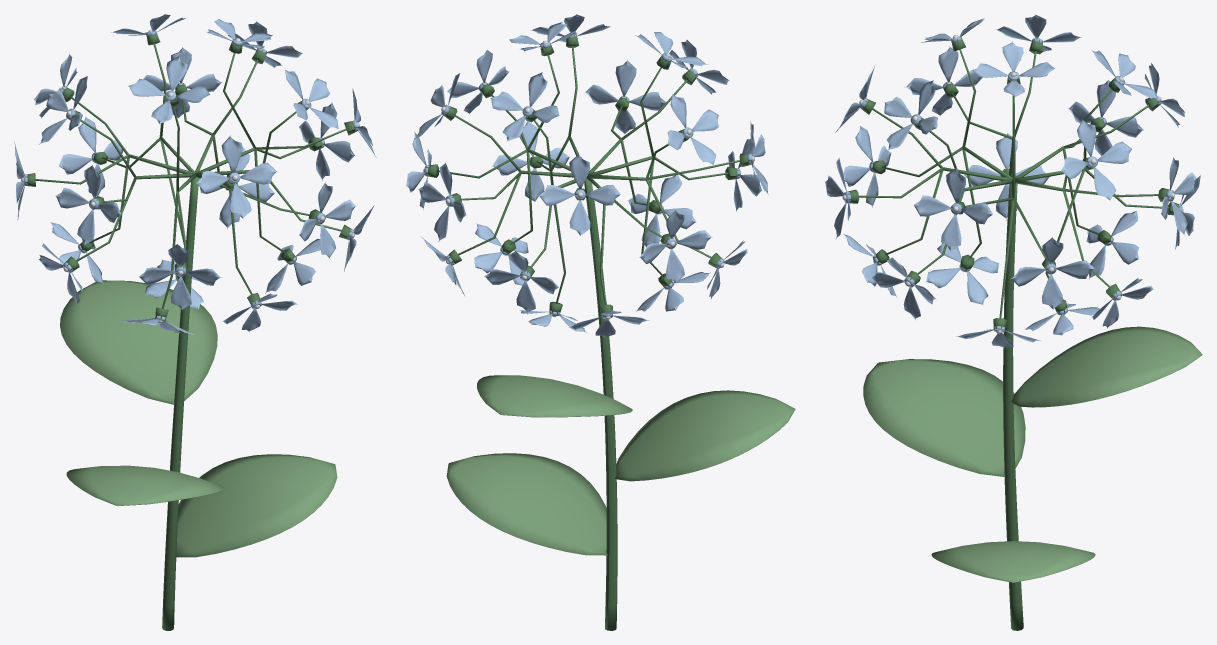
The model's file is hydrangea-common-v2.glb.
The picture shows the model from 3 angles, left to right: view 1: azimuth 30°, elevation 25°; view 2: azimuth 150°, elevation 25°; view 3: azimuth 270°, elevation 25°; orthographic projection. The views are drawn at different scales.
Parts seen in each view (by area): view 1: hydrangea-common-v2-leaf, hydrangea-common-v2-petal, hydrangea-common-v2-stem; view 2: hydrangea-common-v2-leaf, hydrangea-common-v2-petal, hydrangea-common-v2-stem; view 3: hydrangea-common-v2-leaf, hydrangea-common-v2-petal, hydrangea-common-v2-stem.
Boxes of the visible parts, bbox=[...] form: hydrangea-common-v2-leaf: bbox=[60, 280, 337, 557]; hydrangea-common-v2-petal: bbox=[14, 14, 376, 335]; hydrangea-common-v2-stem: bbox=[25, 32, 356, 630]; hydrangea-common-v2-leaf: bbox=[446, 375, 795, 555]; hydrangea-common-v2-petal: bbox=[406, 14, 768, 338]; hydrangea-common-v2-stem: bbox=[426, 35, 750, 630]; hydrangea-common-v2-leaf: bbox=[863, 326, 1202, 582]; hydrangea-common-v2-petal: bbox=[825, 14, 1200, 348]; hydrangea-common-v2-stem: bbox=[847, 37, 1181, 630].
Size of the model in its own units: 0.9971 by 1.79 by 1.01.
